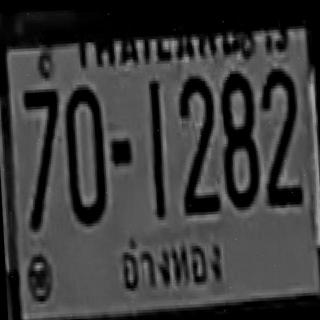N00: (62, 82, 108, 223)
N01: (146, 78, 165, 218)
N02: (258, 65, 302, 206), (177, 75, 218, 213)
N07: (22, 86, 63, 227)
N08: (217, 69, 259, 207)
P02: (113, 227, 230, 304)
